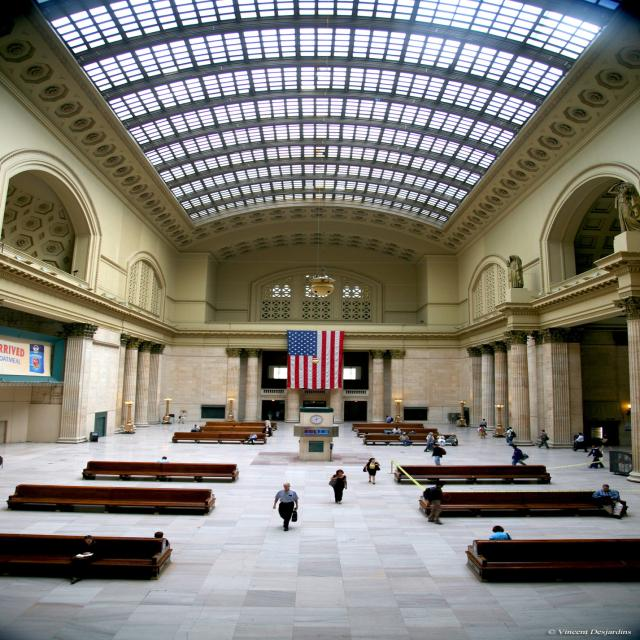body: (65, 532, 106, 586), (270, 481, 300, 532), (592, 484, 624, 520), (327, 468, 350, 505), (427, 481, 445, 525), (362, 457, 381, 485), (584, 444, 606, 468), (363, 430, 416, 439), (570, 432, 590, 453), (430, 443, 447, 466), (511, 445, 530, 465), (488, 525, 513, 540), (155, 456, 171, 478), (535, 429, 550, 450), (153, 531, 170, 547), (599, 433, 613, 452), (424, 432, 436, 452), (505, 427, 516, 446), (476, 424, 488, 439), (264, 410, 282, 420), (398, 432, 409, 447), (246, 432, 258, 445), (261, 424, 272, 438), (177, 410, 187, 424), (436, 433, 446, 447), (448, 433, 458, 446), (425, 434, 436, 445), (191, 423, 201, 432), (392, 426, 402, 435), (384, 415, 394, 423), (480, 418, 488, 428), (505, 428, 510, 444), (264, 419, 271, 428), (232, 424, 236, 427)
